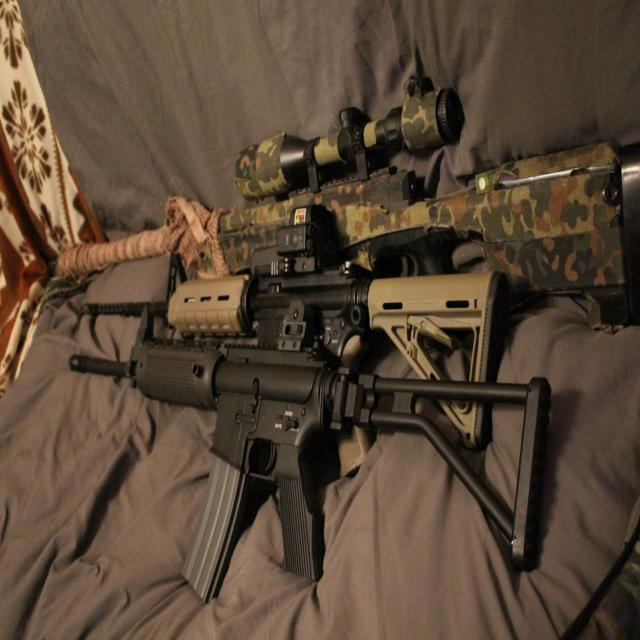firearm: (47, 70, 640, 334), (67, 295, 554, 605), (78, 202, 512, 482)
